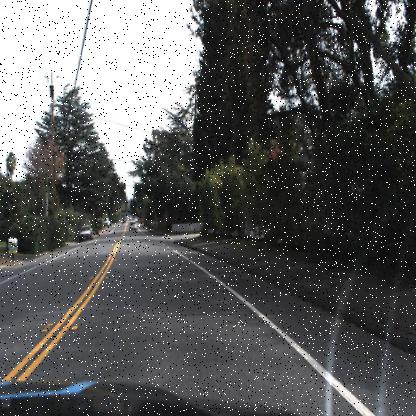car: (78, 223, 92, 241), (127, 218, 139, 234)
